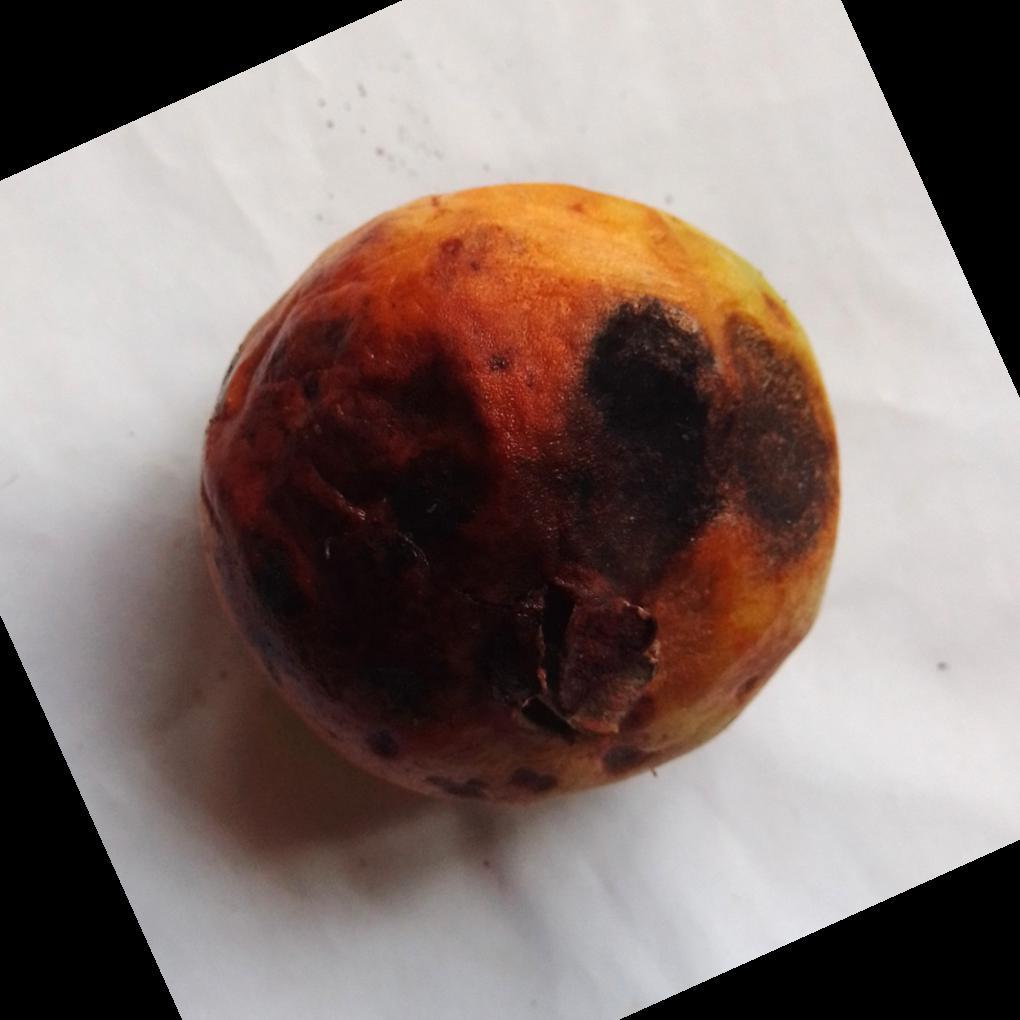FreshOrange: (195, 183, 843, 811)
